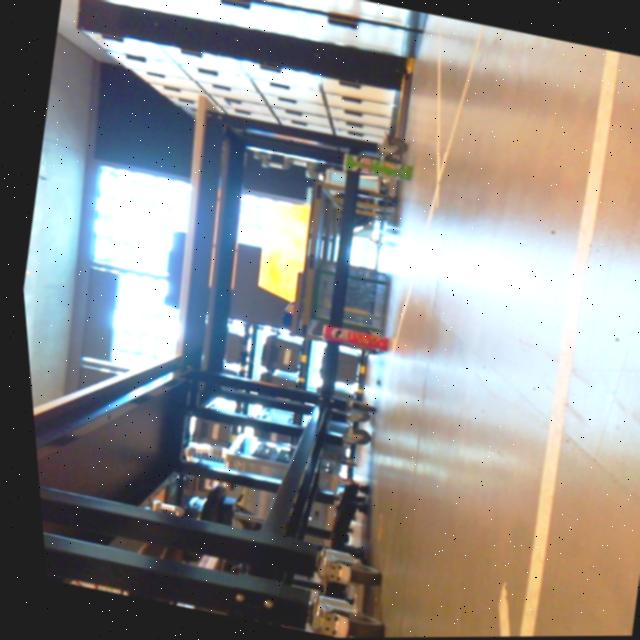greenpringles: (325, 143, 422, 192)
redpringles: (304, 313, 391, 360)
